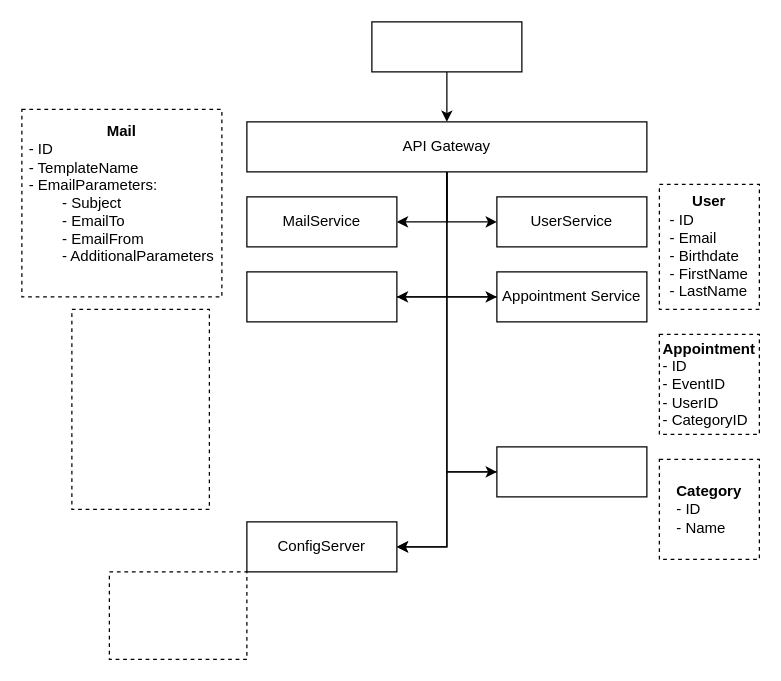
The diagram is 781 pixels wide and 681 high, and some of its shapes have lost their labels. Each missing label, with the centre of its shape:
CategoryService: pixel 571 471
Configuration - ??: pixel 177 615
Event - ID - Name - StartDateTime - Capacity - Description - Duration - Color: pixel 140 408
EventService: pixel 321 296
Frontend (Vue.js): pixel 446 46
